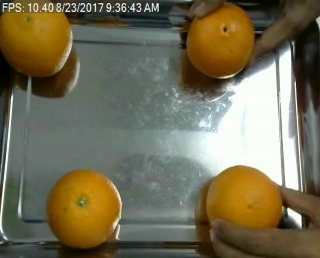Orange: (46, 169, 122, 246), (206, 165, 284, 237), (1, 1, 73, 77), (184, 2, 253, 79)
